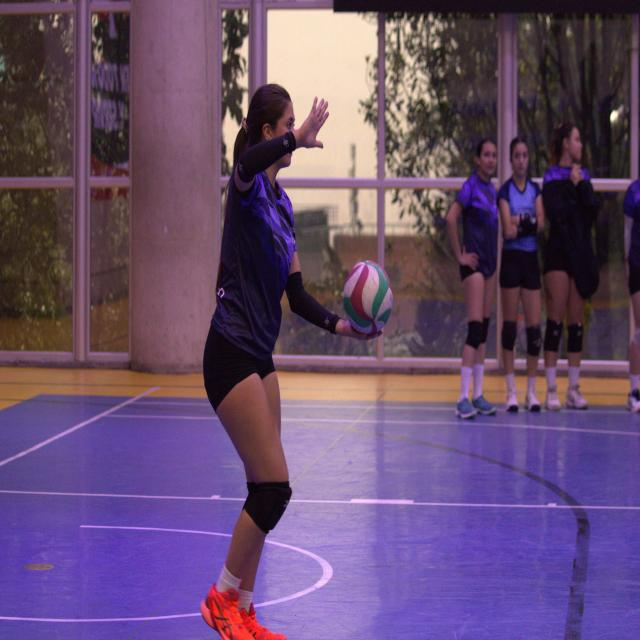volleyball: (342, 259, 392, 333)
